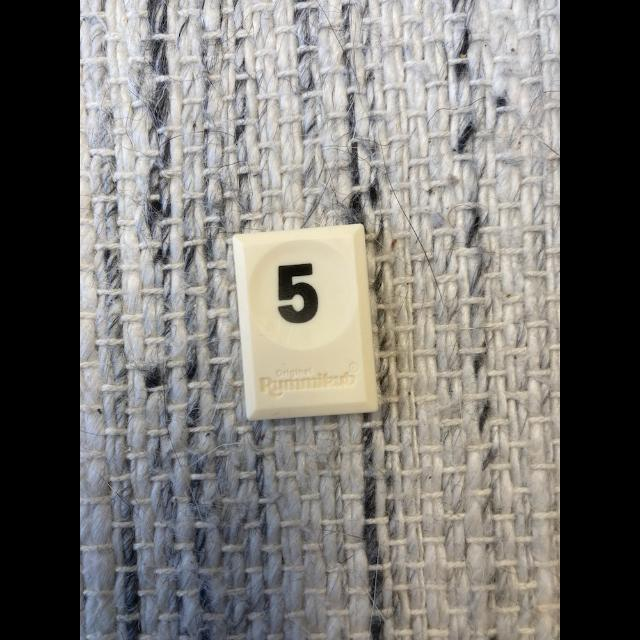black_5: (232, 224, 377, 419)
